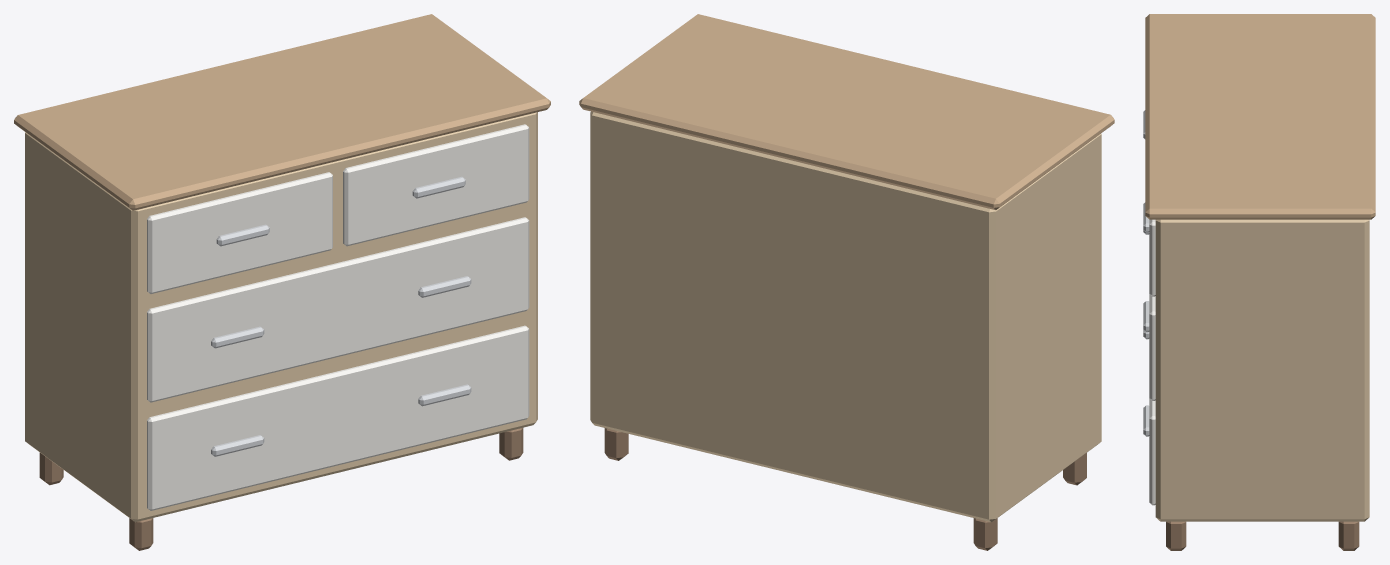
File: Dresser.glb
The picture shows the model from 3 angles, left to right: view 1: azimuth 30°, elevation 25°; view 2: azimuth 150°, elevation 25°; view 3: azimuth 270°, elevation 25°; orthographic projection. The views are drawn at different scales.
Parts seen in each view (by area): view 1: Dresser_Body; view 2: Dresser_Body; view 3: Dresser_Body.
Boxes of the visible parts, x1,y1,x2,y2 form: Dresser_Body: (14, 14, 550, 550); Dresser_Body: (579, 14, 1114, 550); Dresser_Body: (1143, 14, 1375, 550).
Size of the model in its own units: 1.14 by 0.94 by 0.565.
